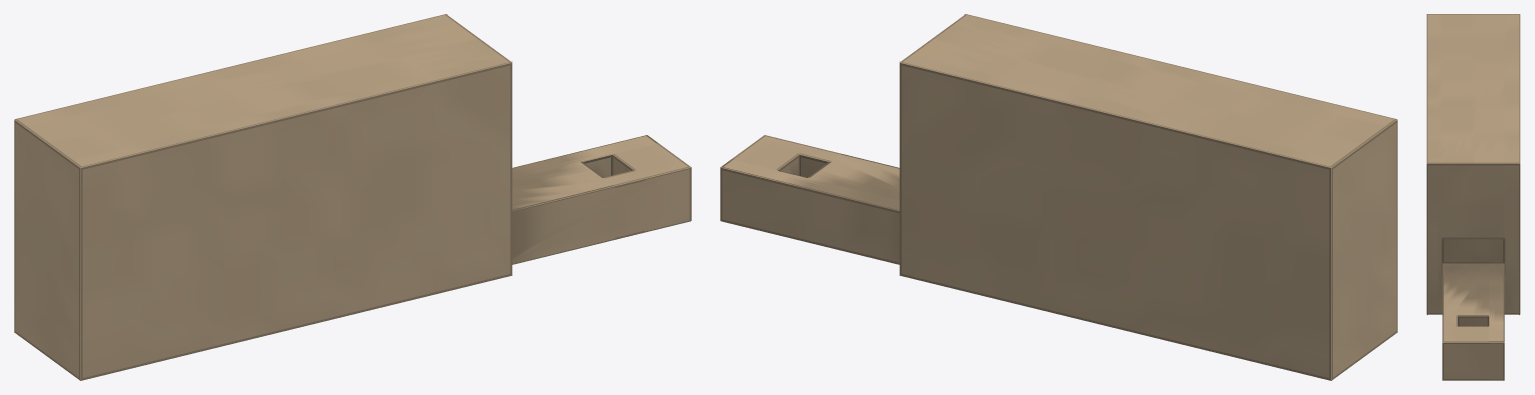
3 renders of one model, left to right at view 1: azimuth 30°, elevation 25°; view 2: azimuth 150°, elevation 25°; view 3: azimuth 270°, elevation 25°, orthographic. The views are drawn at different scales.
Parts seen in each view (by area): view 1: part-b; view 2: part-b; view 3: part-b.
Boxes of the visible parts, box(x1,y1,x2,y2) form: part-b: box(14, 14, 691, 380); part-b: box(720, 14, 1397, 380); part-b: box(1426, 14, 1520, 380).
Size of the model in its own units: 0.4914 by 0.1612 by 0.0908.
